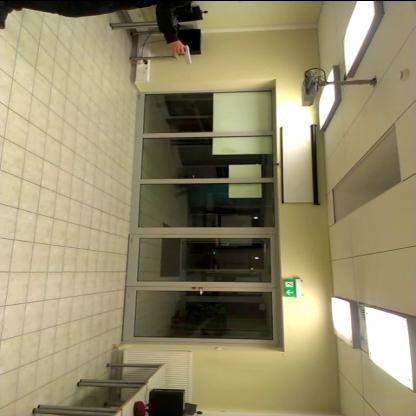Pistol: (170, 42, 199, 72)
